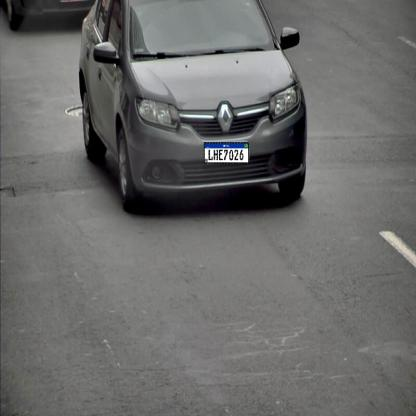PlacaM: (204, 142, 249, 164)
